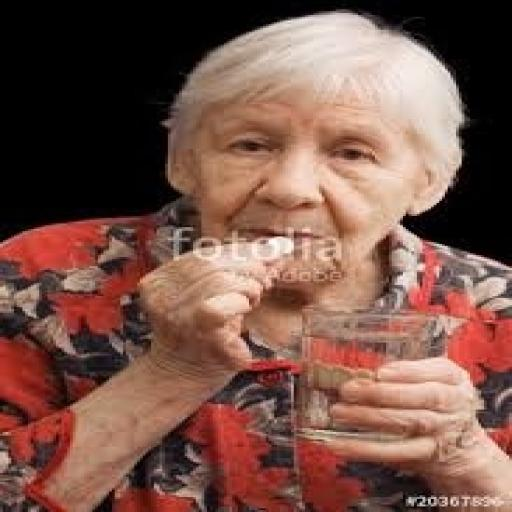drinking: (288, 304, 439, 443)
